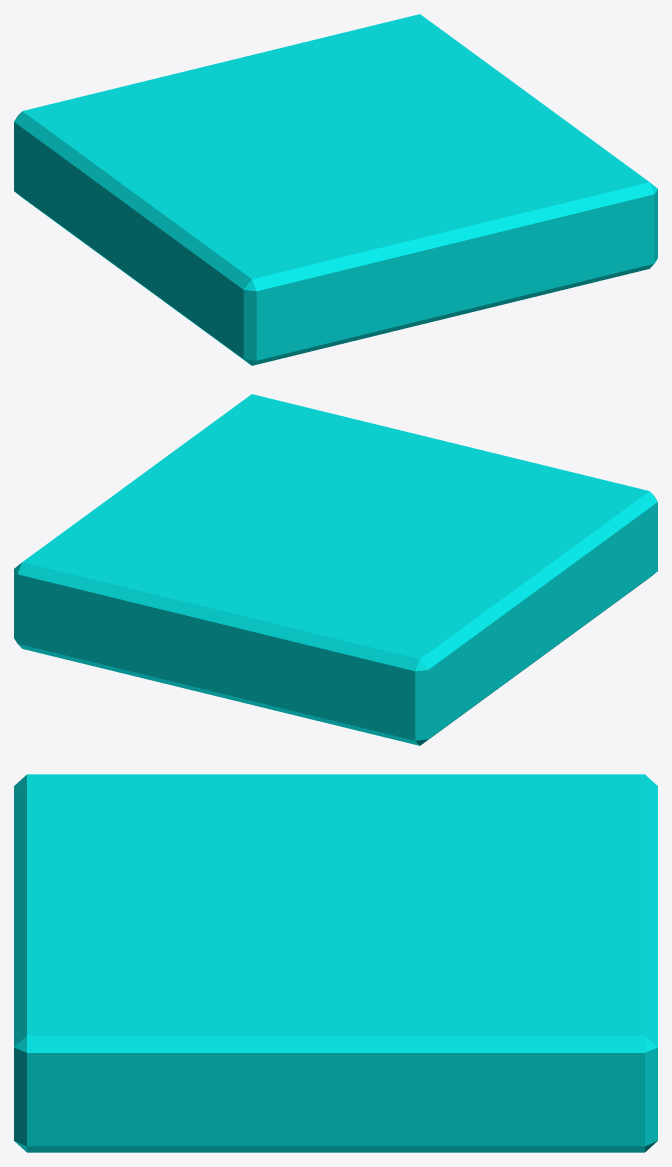
File: Floor.fbx
3 views of the same model, one above another, from view 1: azimuth 30°, elevation 25°; view 2: azimuth 150°, elevation 25°; view 3: azimuth 270°, elevation 25° (orthographic). The views are drawn at different scales.
Visible parts, largest first — view 1: pCube1; view 2: pCube1; view 3: pCube1.
Boxes of the visible parts, x1,y1,x2,y2 form: pCube1: (14, 14, 657, 365); pCube1: (14, 394, 657, 745); pCube1: (14, 774, 657, 1152).
Size of the model in its own units: 1 by 0.2 by 1.
